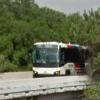Bus: (26, 37, 85, 78)
